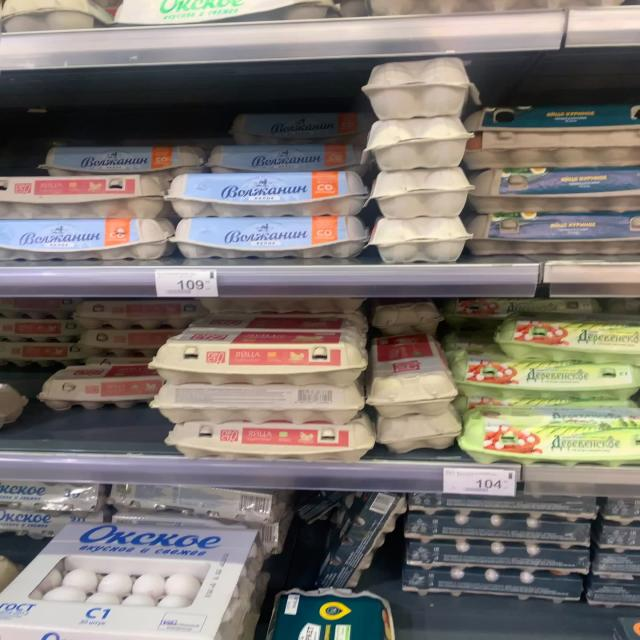egg box: (0, 523, 256, 638), (453, 402, 638, 469), (160, 329, 368, 383), (162, 170, 373, 218), (162, 417, 373, 459), (169, 217, 367, 261), (446, 356, 636, 400), (466, 210, 638, 258), (468, 166, 638, 210), (0, 173, 165, 217), (494, 311, 636, 362), (0, 220, 169, 258), (208, 139, 375, 174), (41, 145, 204, 174)
